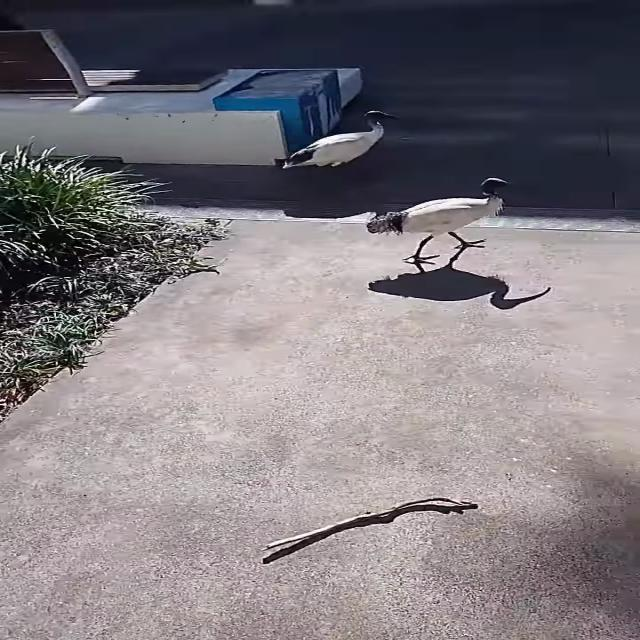Birds-Ibis: (362, 173, 542, 269), (273, 104, 408, 192)
